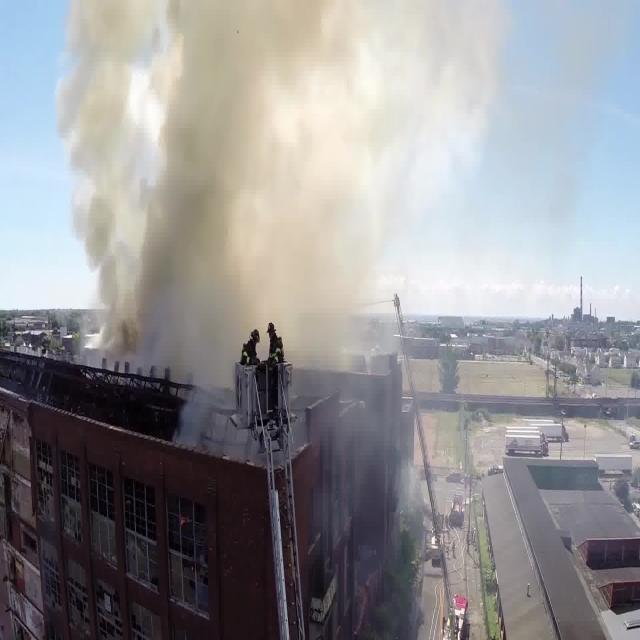Smoke: (54, 0, 434, 449)
